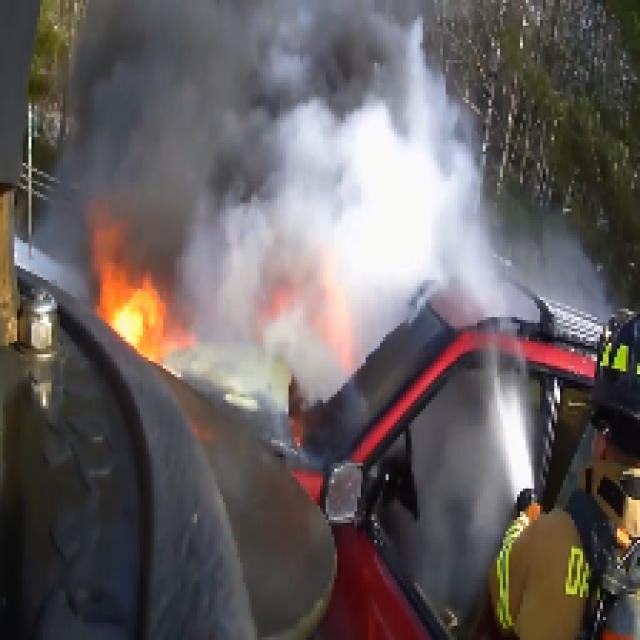Fire: (74, 208, 217, 392)
Smoke: (214, 145, 568, 640), (66, 0, 500, 260)
